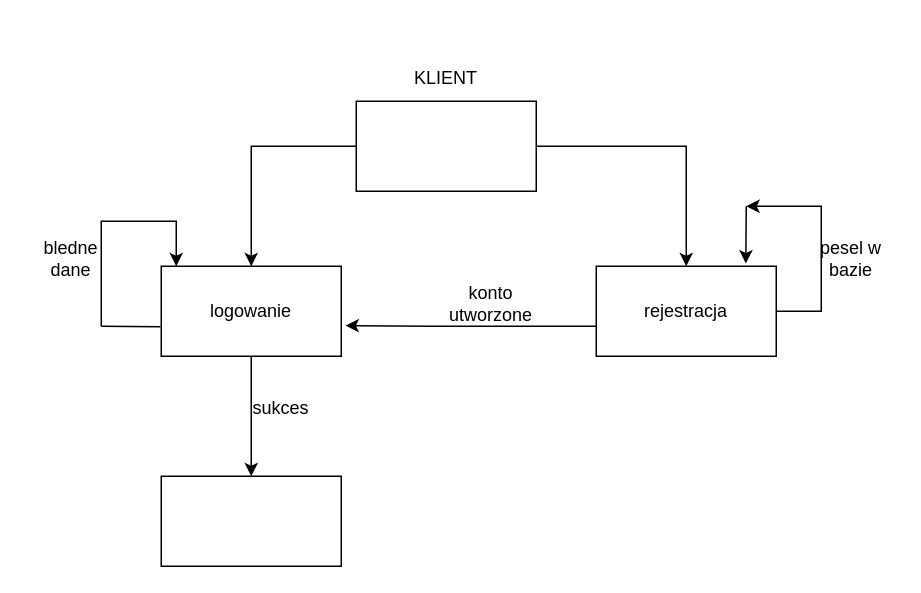
The diagram is 921 pixels wide and 593 high, and some of its shapes have lost their labels. Here are the shapes that lost their labels. From the top down, the centre of each, then its label:
At [445,145]: "okienko log/rejstr".
At [250,520]: "strefa klienta".
